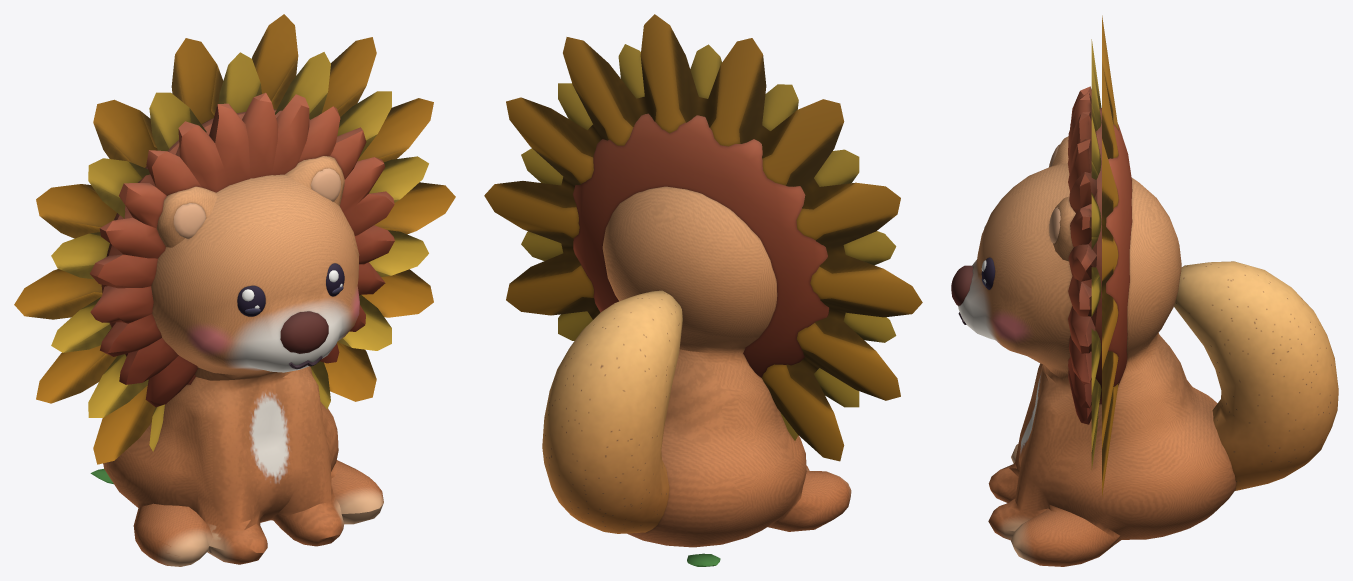
The model's file is creature_lion.fbx.
3 renders of one model, left to right at view 1: azimuth 30°, elevation 25°; view 2: azimuth 150°, elevation 25°; view 3: azimuth 270°, elevation 25°, orthographic. The views are drawn at different scales.
Parts seen in each view (by area): view 1: creature_lion; view 2: creature_lion; view 3: creature_lion.
Part boxes in pixels (bbox=[...]): creature_lion: bbox=[14, 14, 455, 566]; creature_lion: bbox=[484, 14, 922, 566]; creature_lion: bbox=[951, 15, 1338, 566].
Bounding box in the file's own units: 483 × 520 × 376.
1 material, 1 textured.
